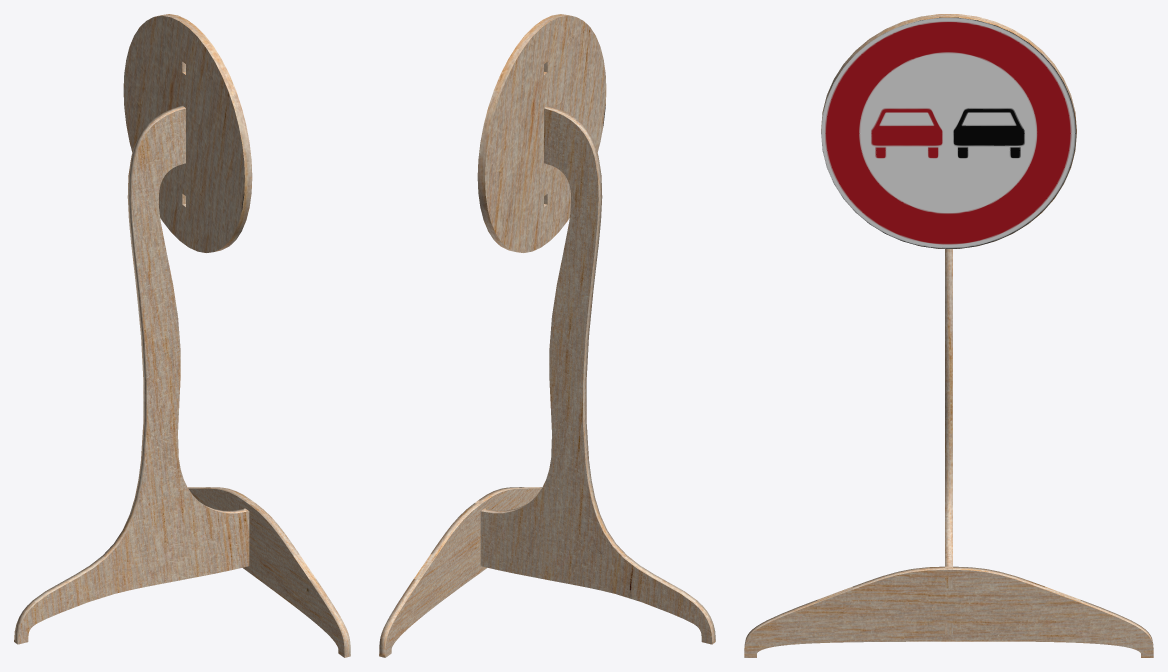
Rendered from No_pass_start.dae.
3 views of the same model, side by side, from view 1: azimuth 30°, elevation 25°; view 2: azimuth 150°, elevation 25°; view 3: azimuth 270°, elevation 25° (orthographic). The views are drawn at different scales.
Visible parts, largest first — view 1: Body1, Body1_2, Body1_1; view 2: Body1, Body1_2, Body1_1; view 3: Body1_2, Body1_1, Body1.
Boxes of the visible parts, box(x1,y1,x2,y2) form: Body1: box(14, 105, 249, 644); Body1_2: box(123, 14, 252, 252); Body1_1: box(187, 487, 350, 657); Body1: box(480, 105, 715, 644); Body1_2: box(477, 14, 606, 252); Body1_1: box(379, 487, 542, 657); Body1_2: box(821, 14, 1076, 248); Body1_1: box(744, 566, 1153, 657); Body1: box(945, 249, 952, 634).
Bounding box in the file's own units: 113 × 160 × 262.
Materials: 2 (2 with a texture image).
